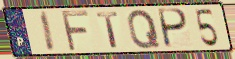5: (193, 8, 221, 48)
F: (59, 9, 91, 53)
I: (39, 10, 58, 53)
P: (158, 7, 190, 50)
Q: (126, 8, 163, 51)
T: (94, 10, 121, 49)
